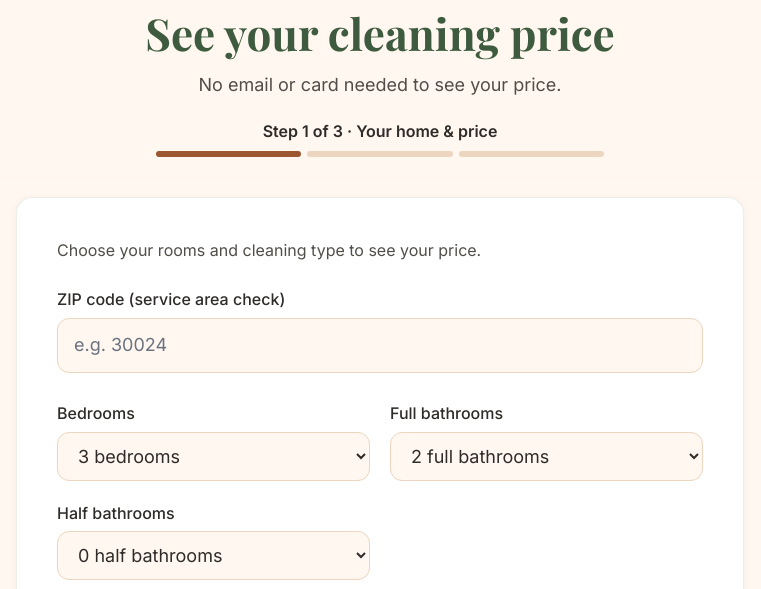
Test: V5: frequency is explicit and Services preselection flows into the total (visual report) › a recurring clean from Services shows the per-visit total with its frequency
The width and height of the screenshot is (761, 589).
Type "30024" into the field labelled "ZIP code (service area check)" at [380, 345], box [57,318,703,373]
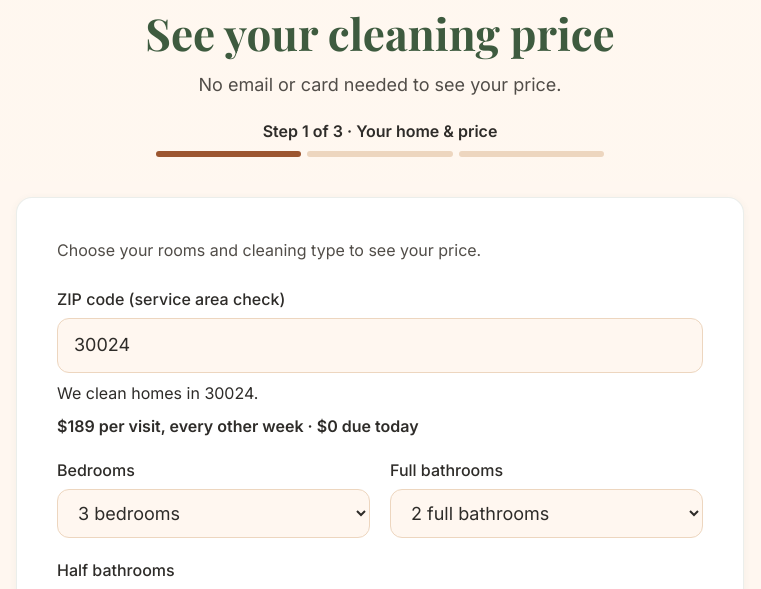
Expected: the text "$189 per visit, every other week · $0 due today" is shown, [57,416,419,436]
